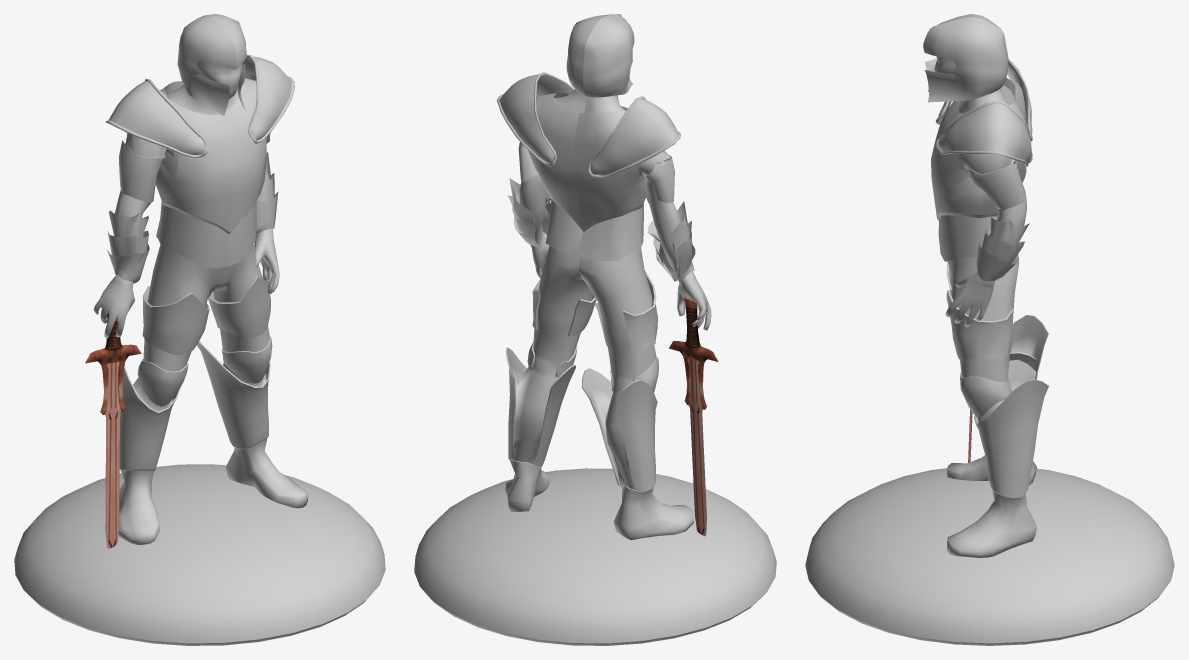
Rendered from SoldierFigurine.FBX.
3 views of the same model, side by side, from view 1: azimuth 30°, elevation 25°; view 2: azimuth 150°, elevation 25°; view 3: azimuth 270°, elevation 25° (orthographic). The views are drawn at different scales.
Parts seen in each view (by area): view 1: Object016; view 2: Object016; view 3: Object016.
Part boxes in pixels (bbox=[...]): Object016: bbox=[14, 14, 385, 645]; Object016: bbox=[414, 14, 776, 645]; Object016: bbox=[805, 14, 1174, 645].
Size of the model in its own units: 56.72 by 96.64 by 56.72.
